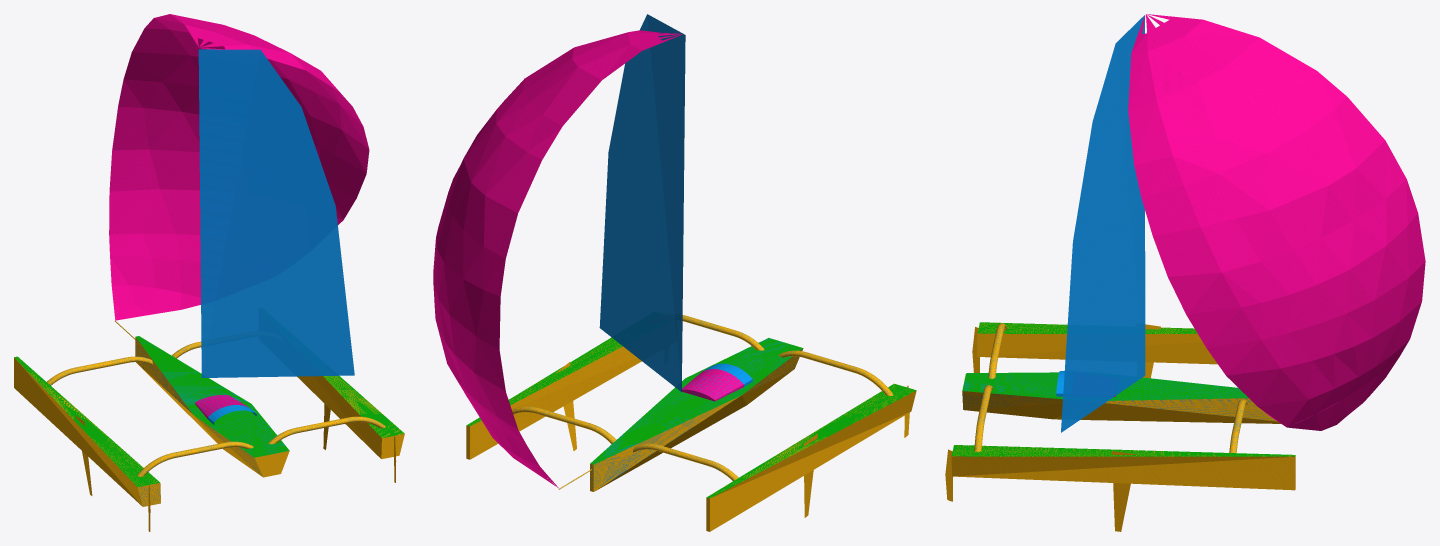
File: TRIMARAN_SPI_BABORD.dae
3 views of the same model, side by side, from view 1: azimuth 30°, elevation 25°; view 2: azimuth 150°, elevation 25°; view 3: azimuth 270°, elevation 25° (orthographic). The views are drawn at different scales.
Visible parts, largest first — view 1: SketchUp (×13); view 2: SketchUp (×14); view 3: SketchUp (×11).
Boxes of the visible parts, x1,y1,x2,y2 form: SketchUp (×13): (14, 14, 404, 506); SketchUp (×14): (433, 14, 916, 531); SketchUp (×11): (951, 14, 1425, 531).
Size of the model in its own units: 109052 by 128537 by 135451.
